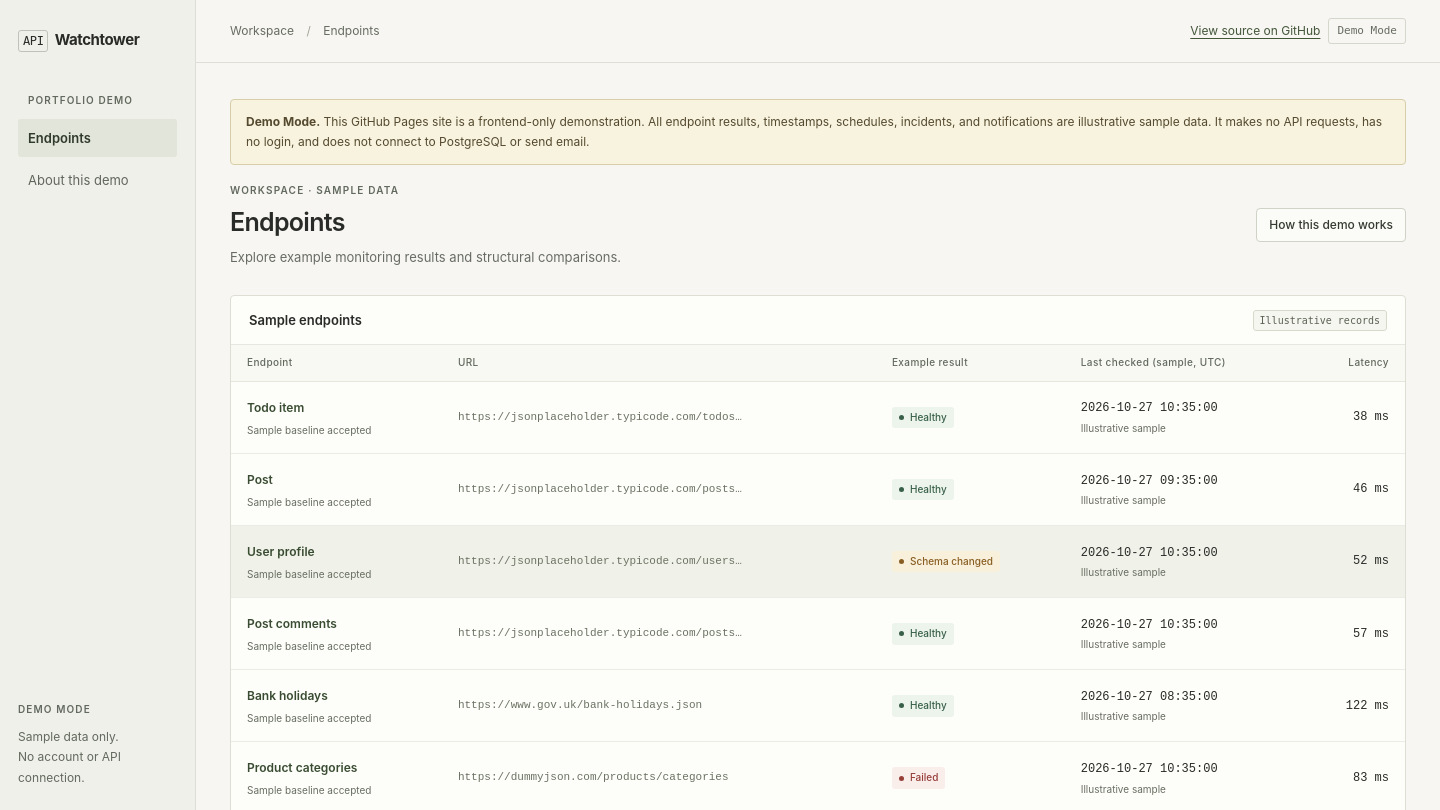
Test: GitHub Pages Demo Mode › lets visitors inspect sample checks, schema changes, schedules, and notifications
Click the button "User profile" at coordinates (281, 552), box [247,541,315,564]
(page scrolled)
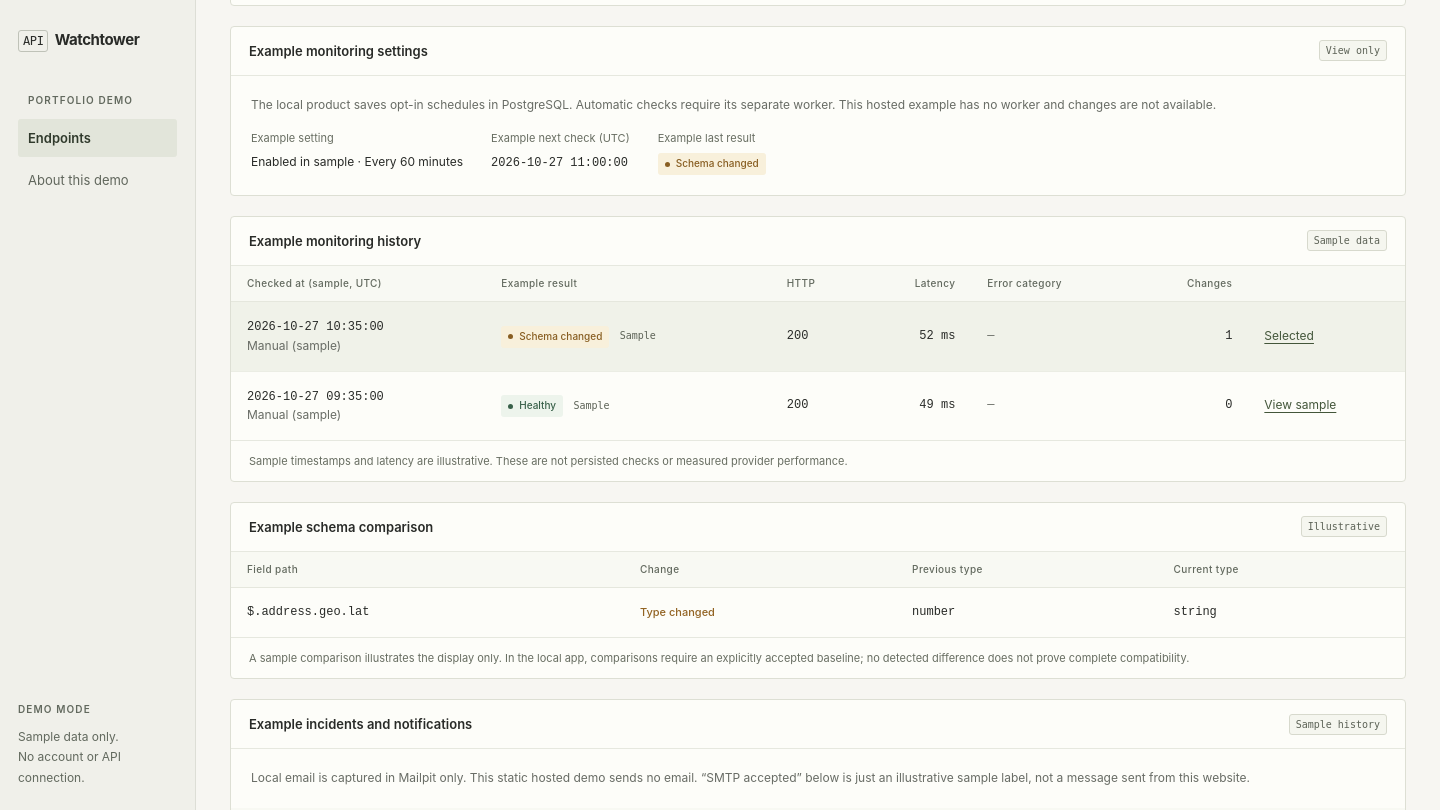
Now the text "$.address.geo.lat" is shown, box [231,588,624,637]
Now the heading "Example monitoring settings" is shown, box [249,41,428,61]
Now the heading "Example incidents and notifications" is shown, box [249,714,472,734]
Click the button "View sample" at coordinates (1300, 406), box [1264,393,1336,419]
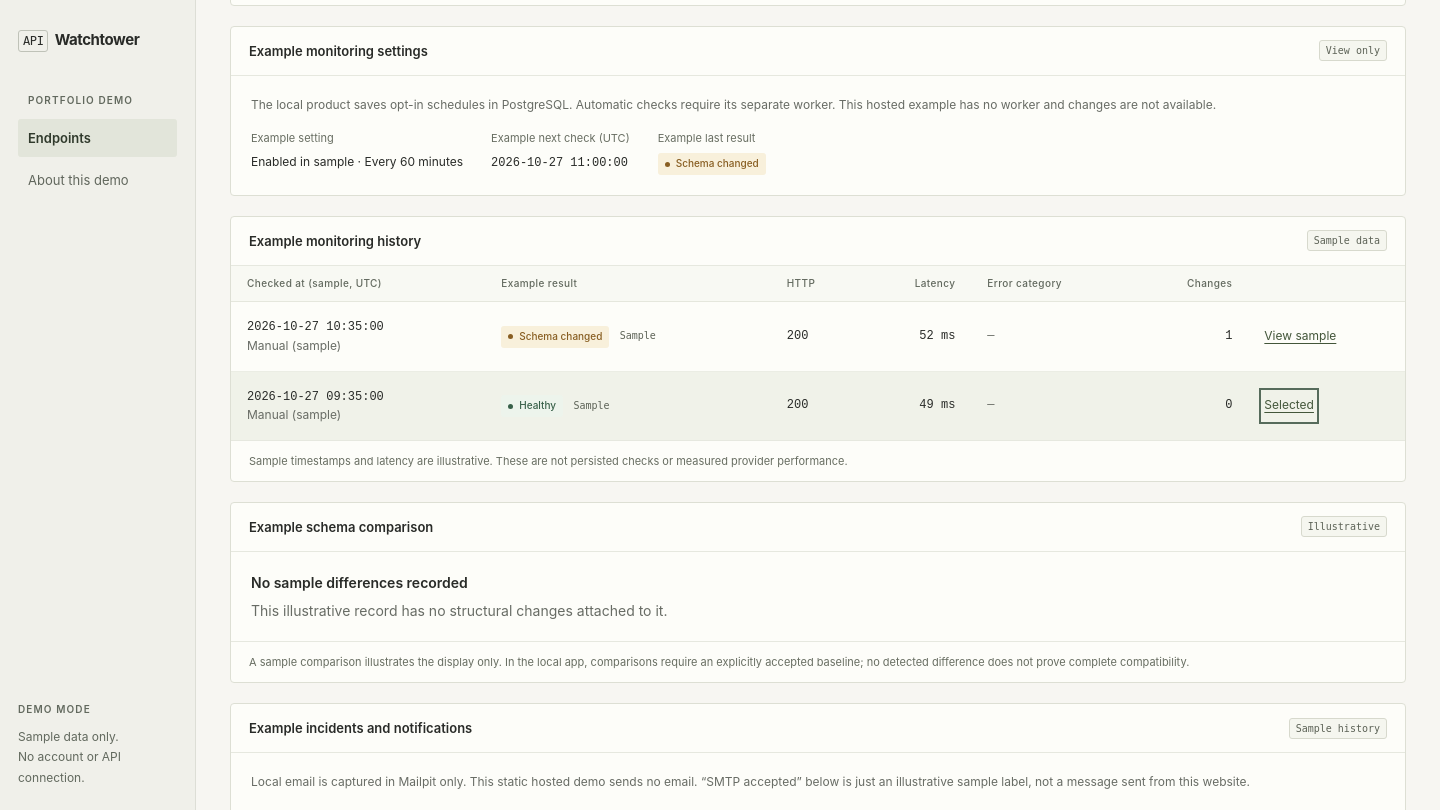
Now the text "This static hosted demo sends no email" is shown, box [251,774,1250,789]
Now the heading "No sample differences recorded" is shown, box [251,574,468,591]
